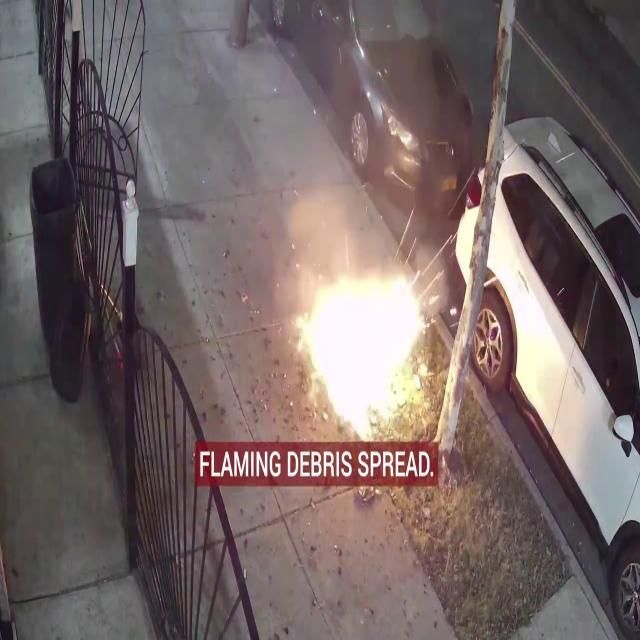Fire: (295, 246, 439, 457)
